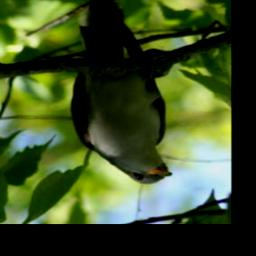Cuckoo: (68, 0, 172, 186)
